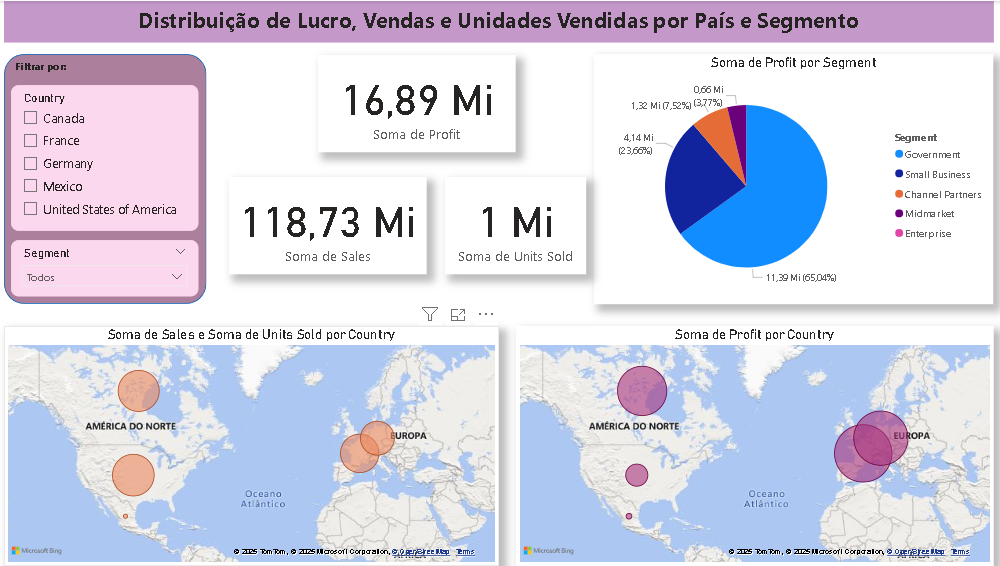

This screenshot's page, from the dashboard's own definition file:
{"tool":"powerbi","page":{"name":"Distribuições","canvas":[1280,720],"ordinal":2},"visuals":[{"type":"shape","box":[8.4,67.6,258.2,318.5],"z":0},{"type":"map","fields":{"Category":["financials.Country"],"Size":["Sum(financials.Sales)"]},"box":[8.4,413.8,631,306.4],"z":1000},{"type":"map","fields":{"Category":["financials.Country"],"Size":["Sum(financials.Profit)"]},"box":[661.1,413.8,609.3,306.4],"z":2000},{"type":"textbox","box":[8.4,0,1261.9,53.1],"z":3000},{"type":"pieChart","fields":{"Y":["Sum(financials.Profit)"],"Category":["financials.Segment"]},"box":[761.3,67.6,509.1,318.5],"z":4000},{"type":"card","fields":{"Values":["Sum(financials.Profit)"]},"box":[409,68.8,252.1,124.3],"z":5000},{"type":"slicer","fields":{"Values":["financials.Country"]},"box":[18.1,107.6,238.9,185.8],"z":6000},{"type":"slicer","fields":{"Values":["financials.Segment"]},"box":[18.1,304.2,238.9,72.4],"z":7000},{"type":"card","fields":{"Values":["Sum(financials.Sales)"]},"box":[295.6,224.4,252.1,124.3],"z":7001},{"type":"card","fields":{"Values":["Sum(financials.Units Sold)"]},"box":[570.6,224.4,179.8,124.3],"z":7002},{"type":"textbox","box":[18.1,68.8,95.3,31.4],"z":7003}]}

Visuals, with their boxes in screenshot pixels (x1, y1, x2, y2), scaled from the page's 1280x720 canvas onto the 1000x566 screenshot:
shape: box(7, 53, 208, 304)
map - financials.Country x Sum(financials.Sales): box(7, 325, 500, 565)
map - financials.Country x Sum(financials.Profit): box(516, 325, 993, 565)
textbox: box(7, 0, 992, 42)
pieChart - Sum(financials.Profit) x financials.Segment: box(595, 53, 993, 304)
card - Sum(financials.Profit): box(320, 54, 516, 152)
slicer - financials.Country: box(14, 85, 201, 231)
slicer - financials.Segment: box(14, 239, 201, 296)
card - Sum(financials.Sales): box(231, 176, 428, 274)
card - Sum(financials.Units Sold): box(446, 176, 586, 274)
textbox: box(14, 54, 89, 79)
